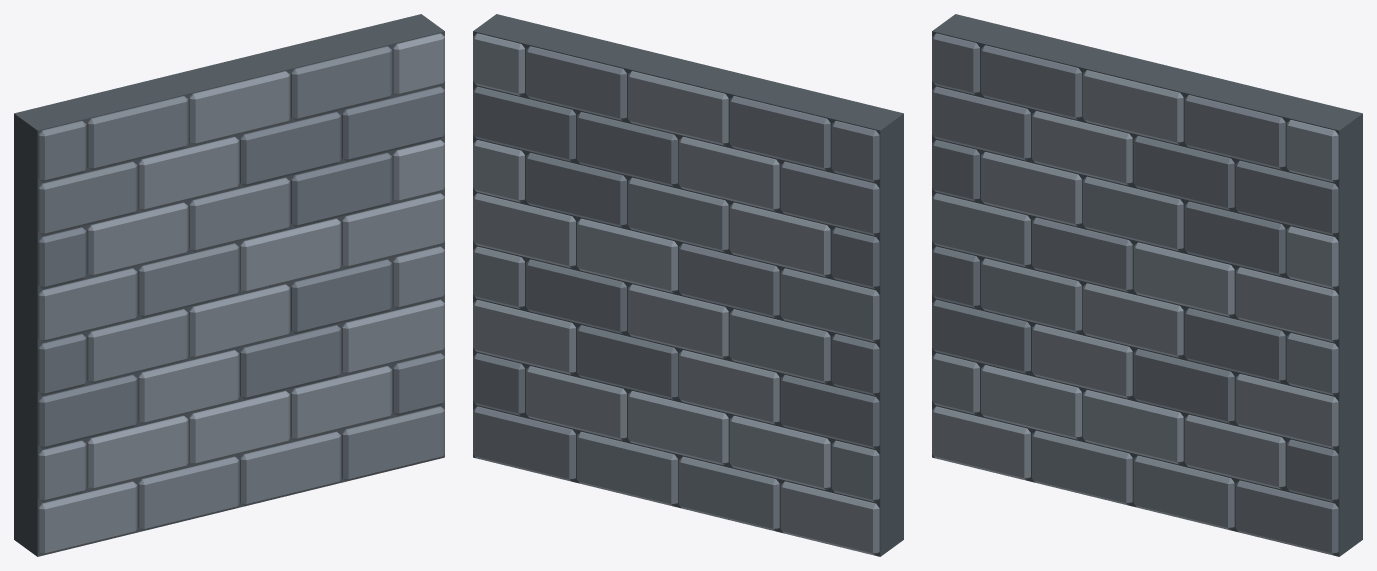
File: MOD_01_Wall_Straight.glb
3 renders of one model, left to right at view 1: azimuth 30°, elevation 25°; view 2: azimuth 150°, elevation 25°; view 3: azimuth 330°, elevation 25°, orthographic.
Parts seen in each view (by area): view 1: MOD_01_Wall_Straight; view 2: MOD_01_Wall_Straight; view 3: MOD_01_Wall_Straight.
Part boxes in pixels (x1=…): MOD_01_Wall_Straight: x1=14, y1=14, x2=444, y2=556; MOD_01_Wall_Straight: x1=473, y1=14, x2=903, y2=556; MOD_01_Wall_Straight: x1=932, y1=14, x2=1362, y2=556.
Bounding box in the file's own units: 4 × 4 × 0.5.
